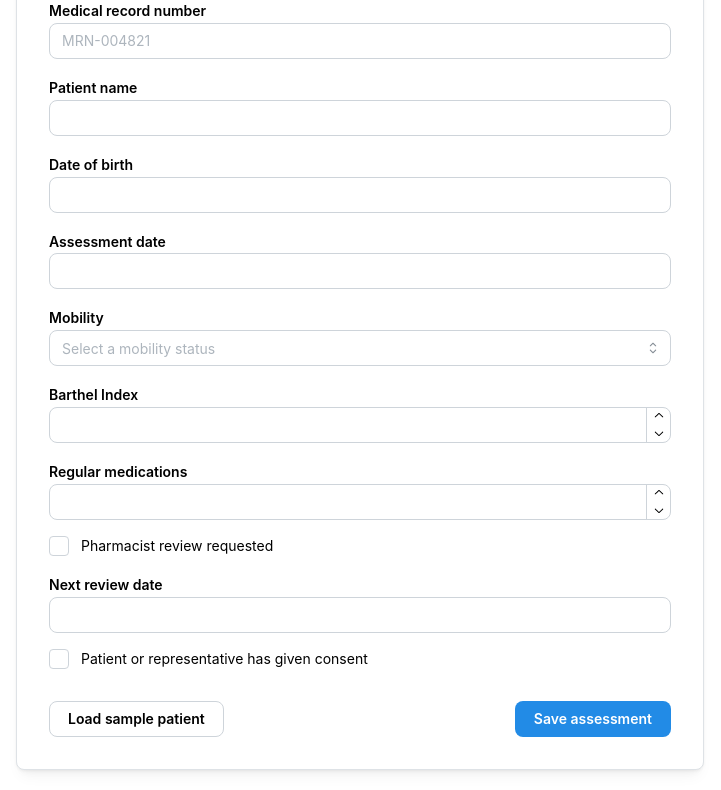
Geriatric Assessment Tests › submits empty form and shows 9 errors with untouched quiet fields
(page scrolled)
Click the button "Save assessment" at [593, 719], box [515,701,671,737]
(page scrolled)
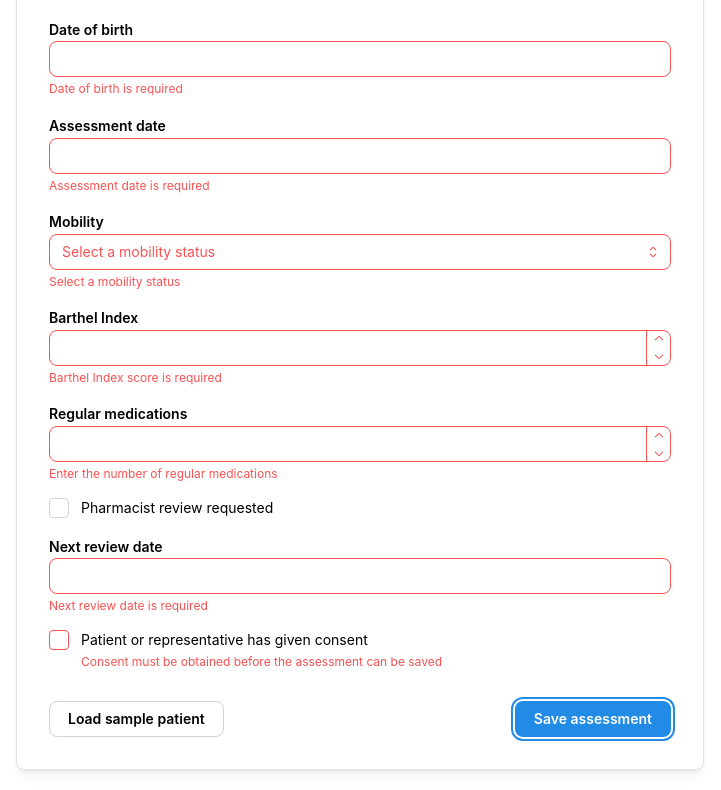
Now the text "Date of birth is required" is shown, box [49,81,183,96]
Now the text "Assessment date is required" is shown, box [49,178,210,192]
Now the text "Select a mobility status" is shown, box [49,274,180,289]
